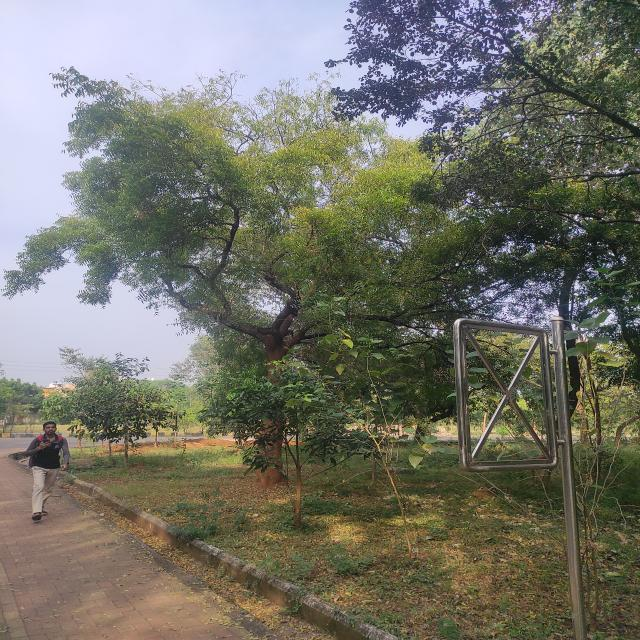Devakanchan tree: (441, 55, 640, 279)
Neem Tree: (79, 69, 413, 424)
